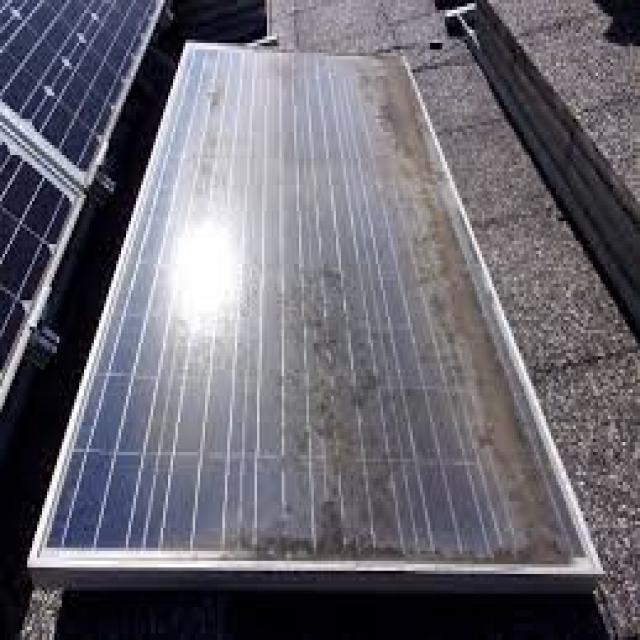faulty: (48, 49, 598, 586)
